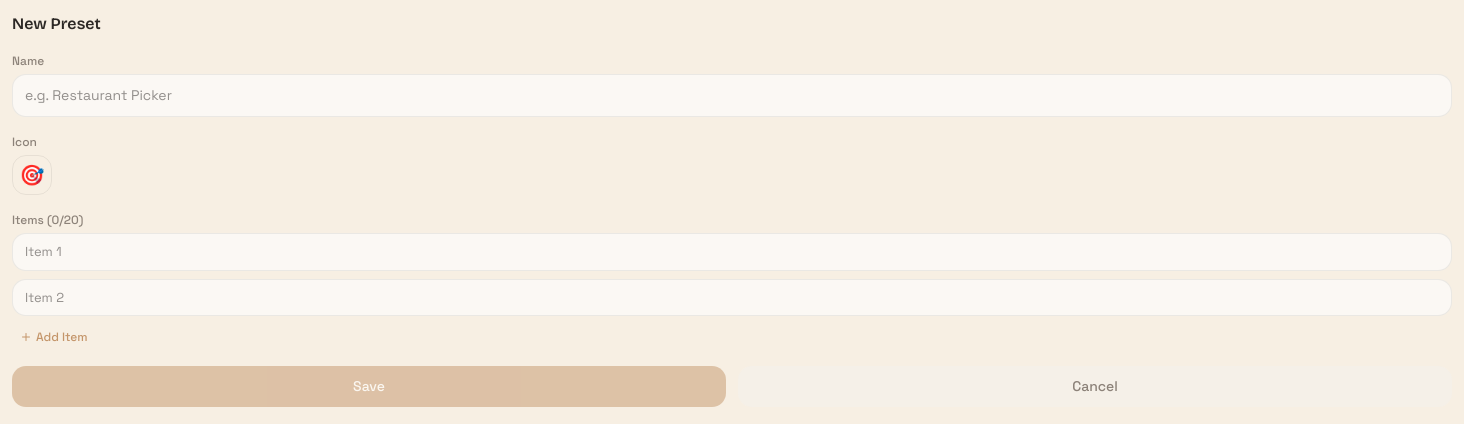
Test: CreatePresetForm › shows correct filled item count
In the field with test id "item-input-0": (732, 252) x1=12 y1=233 x2=1452 y2=270, type "Pizza"
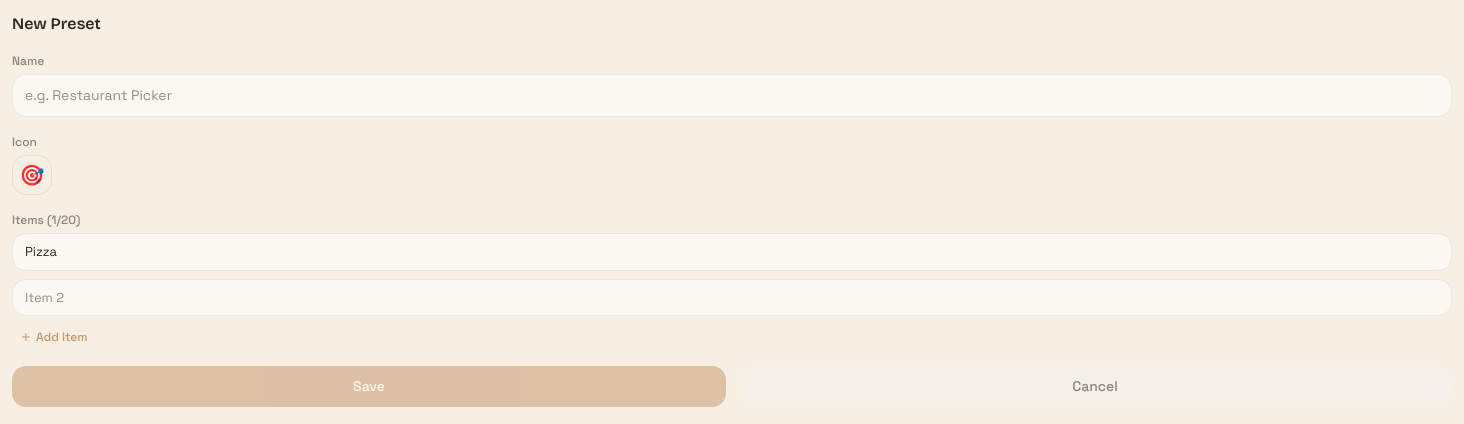
Expected: the text "Items (1/20)" is shown, x1=12 y1=212 x2=80 y2=228
